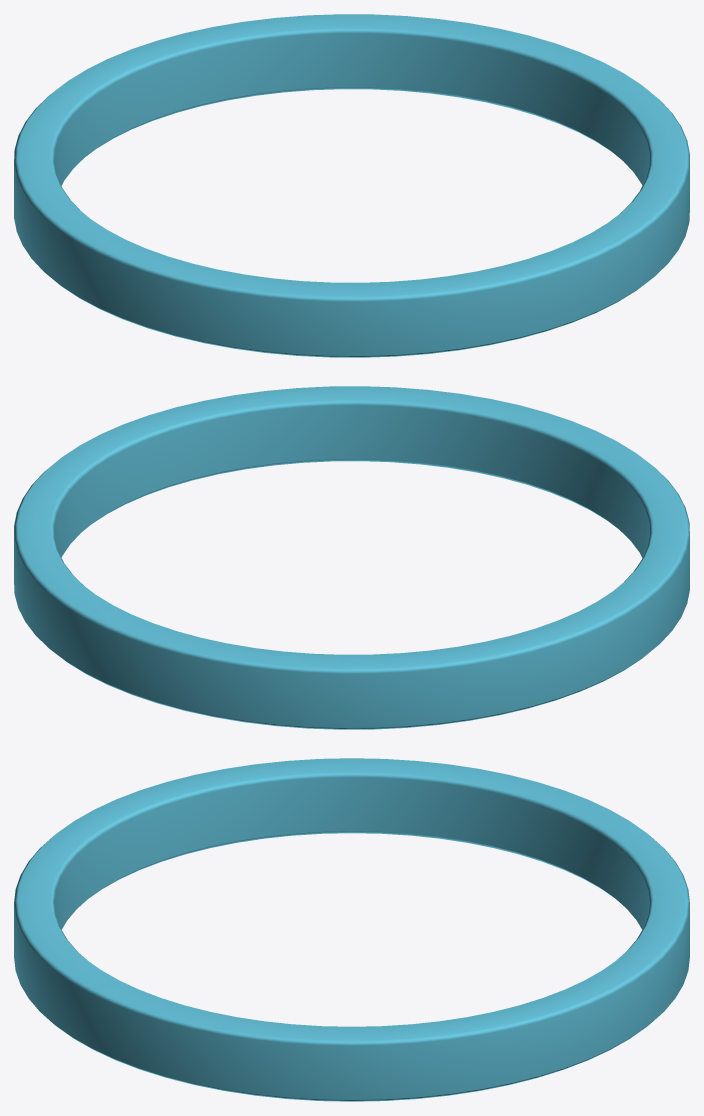
The picture shows the model from 3 angles, top to bottom: view 1: azimuth 30°, elevation 25°; view 2: azimuth 150°, elevation 25°; view 3: azimuth 270°, elevation 25°; orthographic projection.
Visible parts, largest first — view 1: seal_body; view 2: seal_body; view 3: seal_body.
Boxes of the visible parts, left/top/right/bottom form: seal_body: left=14, top=14, right=689, bottom=357; seal_body: left=14, top=386, right=689, bottom=729; seal_body: left=14, top=758, right=689, bottom=1101.
Size of the model in its own units: 0.1587 by 0.0159 by 0.1587.
